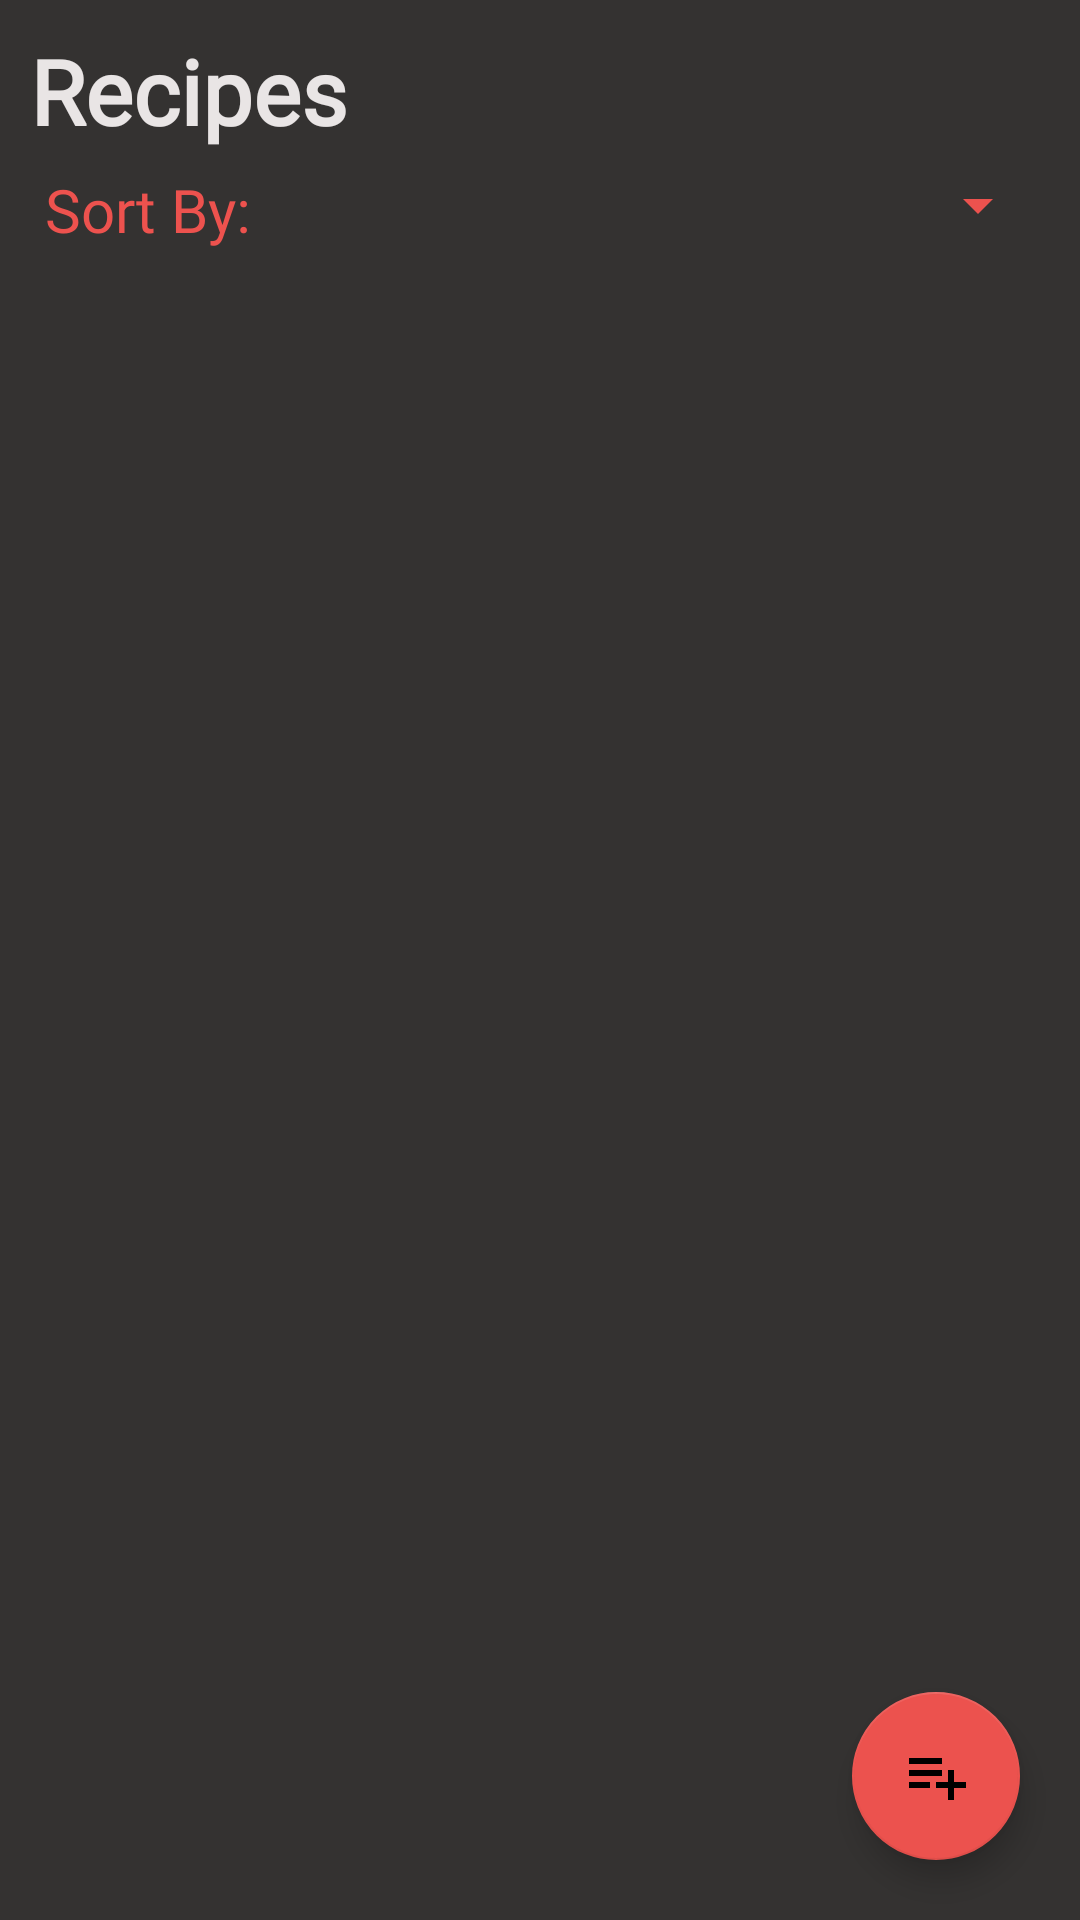

Icons on this 1080×1920 Android screen, each with the point to tap as (x=x, y=y):
add recipe: (x=936, y=1776)
